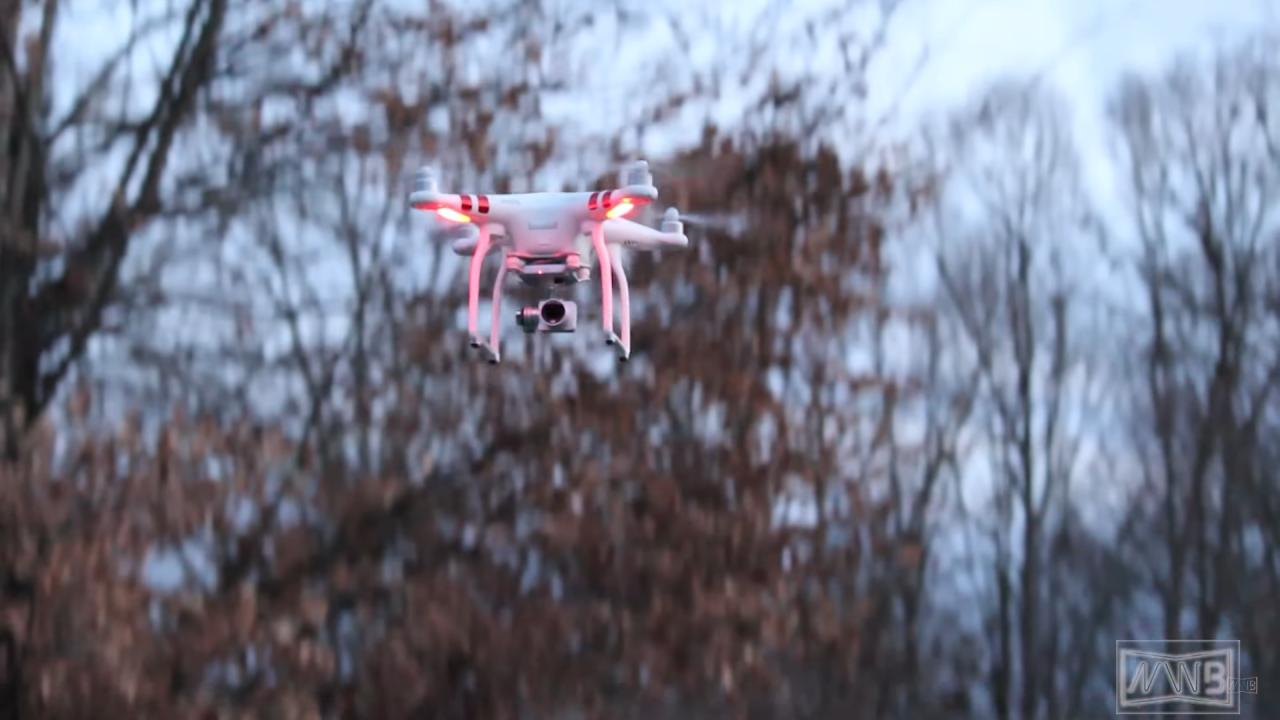Drone: (387, 148, 736, 368)
